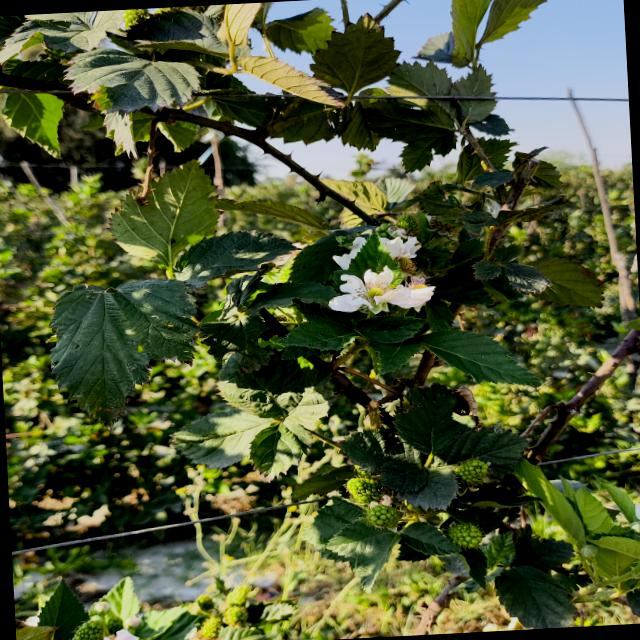flor: (329, 266, 435, 314), (332, 236, 366, 269), (380, 237, 422, 260)
verde: (345, 472, 383, 504), (448, 522, 483, 548), (454, 460, 488, 486), (366, 505, 402, 527)
